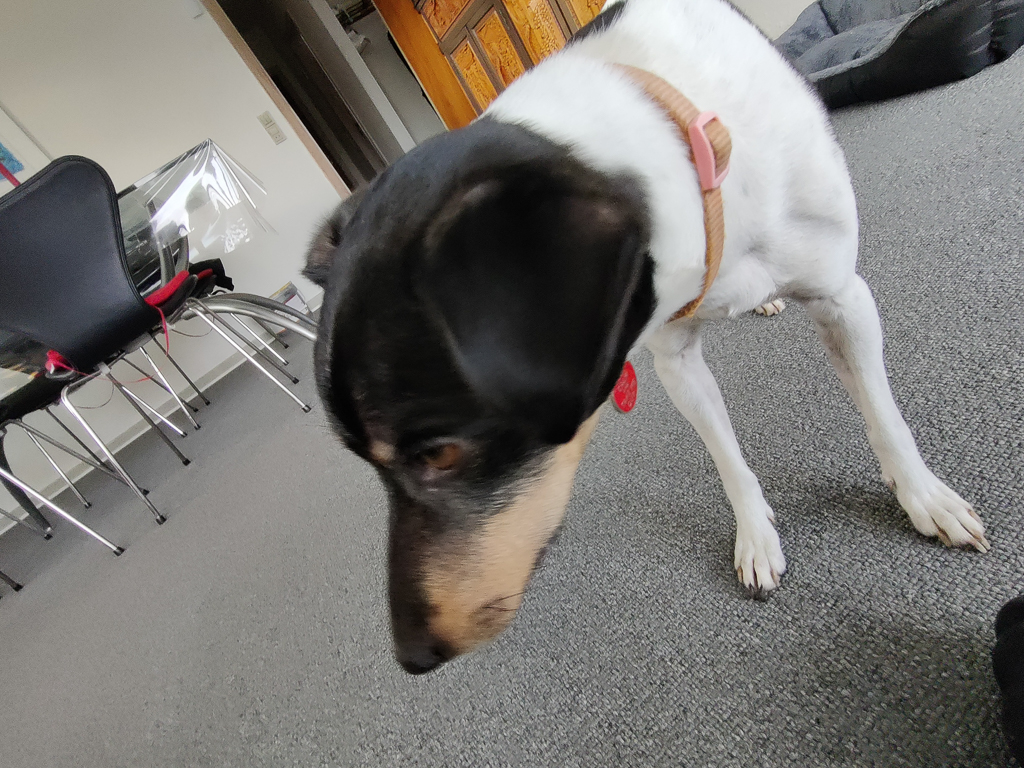Dog: (289, 0, 1011, 694)
Humanoid: (978, 572, 1024, 768)
